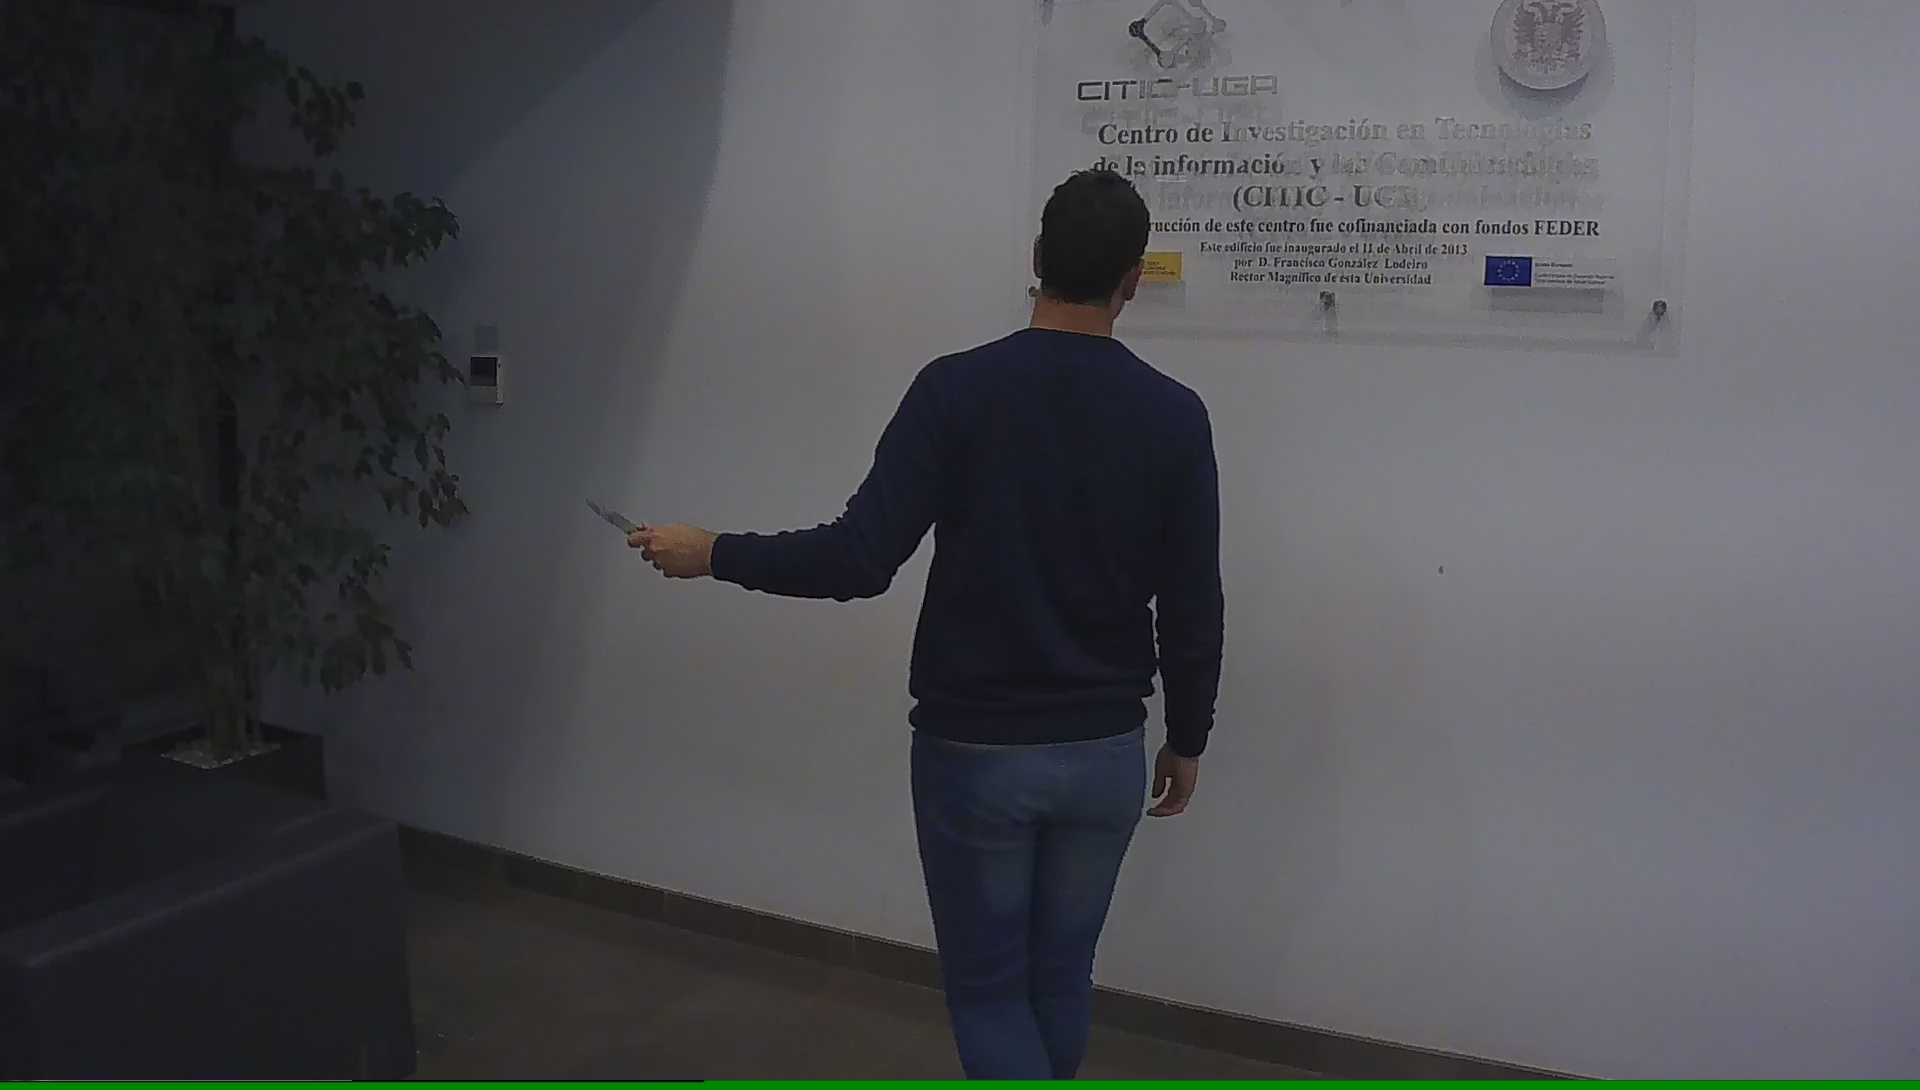knife: (575, 482, 675, 575)
